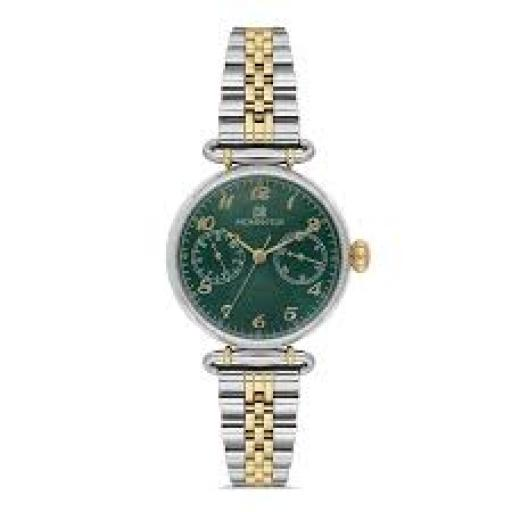KolSaati: (156, 12, 384, 511)
